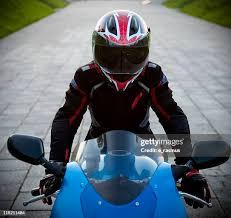Helmet: (93, 10, 150, 91)
